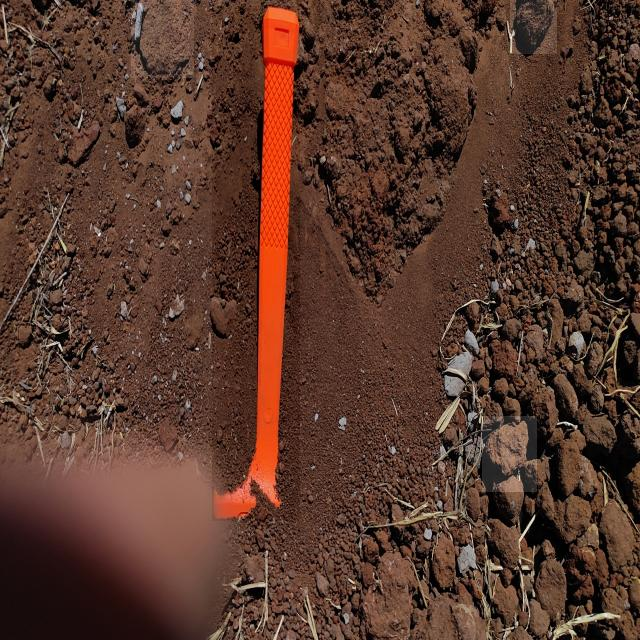Orange_hammer: (212, 6, 300, 521)
rock: (131, 0, 194, 78), (482, 416, 537, 492), (510, 0, 557, 54)
